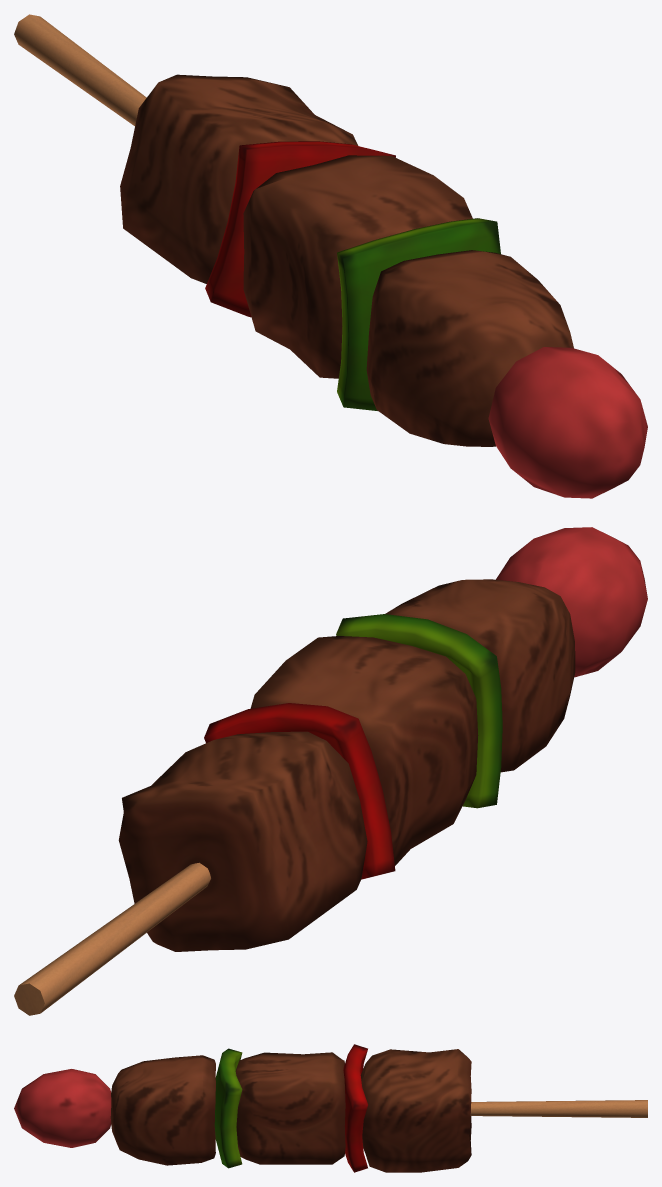
The model's file is BBQ.fbx.
3 views of the same model, one above another, from view 1: azimuth 30°, elevation 25°; view 2: azimuth 150°, elevation 25°; view 3: azimuth 270°, elevation 25° (orthographic). The views are drawn at different scales.
Parts seen in each view (by area): view 1: BBQ; view 2: BBQ; view 3: BBQ.
Part boxes in pixels (x1,y1,x2,y2): BBQ: (14, 14, 647, 498); BBQ: (14, 527, 647, 1015); BBQ: (14, 1044, 647, 1172).
Size of the model in its own units: 32.43 by 31.22 by 179.
